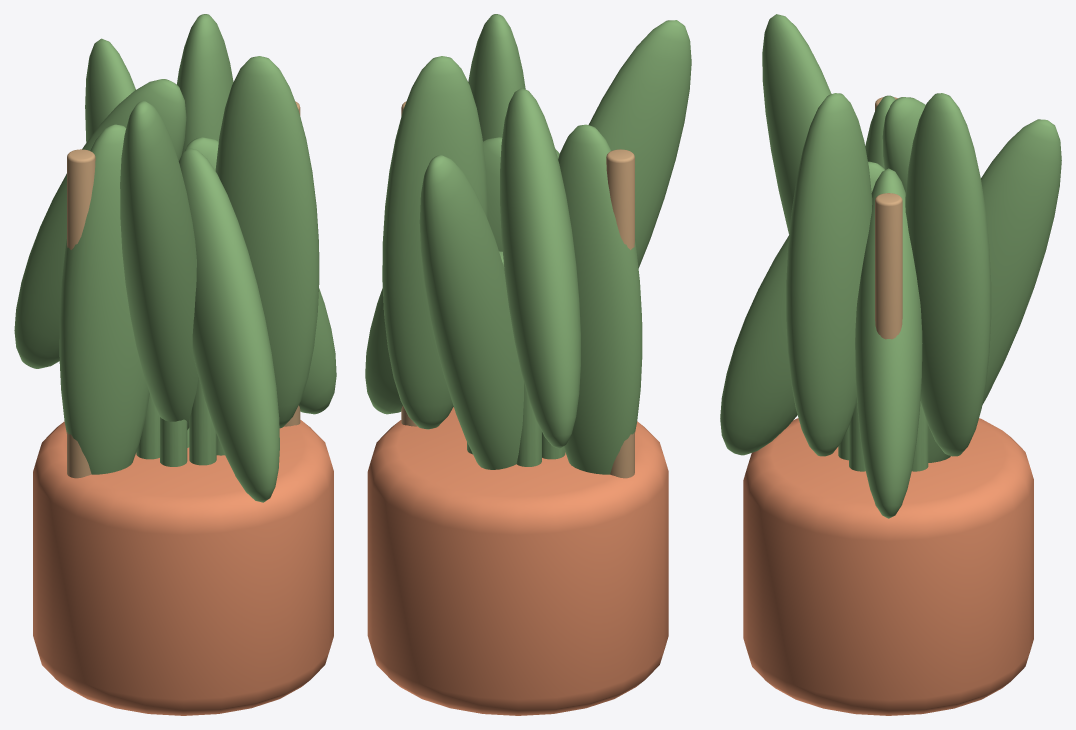
The model's file is plant-hanging.glb.
3 views of the same model, side by side, from view 1: azimuth 30°, elevation 25°; view 2: azimuth 150°, elevation 25°; view 3: azimuth 270°, elevation 25° (orthographic). The views are drawn at different scales.
Parts seen in each view (by area): view 1: pot.002, leaf-7.002, leaf-6.002, leaf-4.003, leaf-5.002, leaf-3.003, leaf-1.003, leaf-2.003, leaf-0.003, cord, stem-6.002, stem-5.002 (+1 smaller); view 2: pot.002, leaf-2.003, leaf-3.003, leaf-1.003, leaf-4.003, leaf-5.002, leaf-7.002, leaf-0.003, cord, stem-3.002; view 3: pot.002, leaf-1.003, leaf-7.002, leaf-0.003, leaf-2.003, leaf-6.002, leaf-5.002, cord.001, leaf-3.003, leaf-4.003, stem-1.002, stem-7.002.
Part boxes in pixels (x1=…): pot.002: x1=33, y1=420, x2=333, y2=715; leaf-7.002: x1=215, y1=56, x2=319, y2=428; leaf-6.002: x1=178, y1=148, x2=279, y2=502; leaf-4.003: x1=59, y1=124, x2=149, y2=474; leaf-5.002: x1=120, y1=101, x2=198, y2=429; leaf-3.003: x1=14, y1=79, x2=186, y2=368; leaf-1.003: x1=177, y1=14, x2=233, y2=154; leaf-2.003: x1=85, y1=38, x2=189, y2=447; leaf-0.003: x1=185, y1=137, x2=336, y2=414; cord: x1=67, y1=149, x2=95, y2=478; stem-6.002: x1=189, y1=377, x2=216, y2=465; stem-5.002: x1=160, y1=417, x2=187, y2=466; pot.002: x1=367, y1=407, x2=668, y2=715; leaf-2.003: x1=419, y1=155, x2=523, y2=469; leaf-3.003: x1=500, y1=88, x2=580, y2=448; leaf-1.003: x1=382, y1=56, x2=487, y2=429; leaf-4.003: x1=558, y1=124, x2=642, y2=474; leaf-5.002: x1=588, y1=20, x2=691, y2=267; leaf-7.002: x1=468, y1=14, x2=525, y2=141; leaf-0.003: x1=365, y1=137, x2=502, y2=414; cord: x1=606, y1=149, x2=634, y2=478; stem-3.002: x1=516, y1=382, x2=541, y2=466; pot.002: x1=743, y1=418, x2=1033, y2=715; leaf-1.003: x1=905, y1=93, x2=991, y2=456; leaf-7.002: x1=786, y1=93, x2=872, y2=456; leaf-0.003: x1=855, y1=168, x2=922, y2=518; leaf-2.003: x1=928, y1=119, x2=1061, y2=462; leaf-6.002: x1=720, y1=161, x2=884, y2=455; leaf-5.002: x1=762, y1=14, x2=831, y2=234; cord.001: x1=875, y1=193, x2=902, y2=505; leaf-3.003: x1=882, y1=97, x2=925, y2=192; leaf-4.003: x1=865, y1=95, x2=895, y2=168; stem-1.002: x1=912, y1=401, x2=928, y2=471; stem-7.002: x1=849, y1=402, x2=865, y2=471.
Size of the model in its own units: 0.2722 by 0.5764 by 0.2963.
